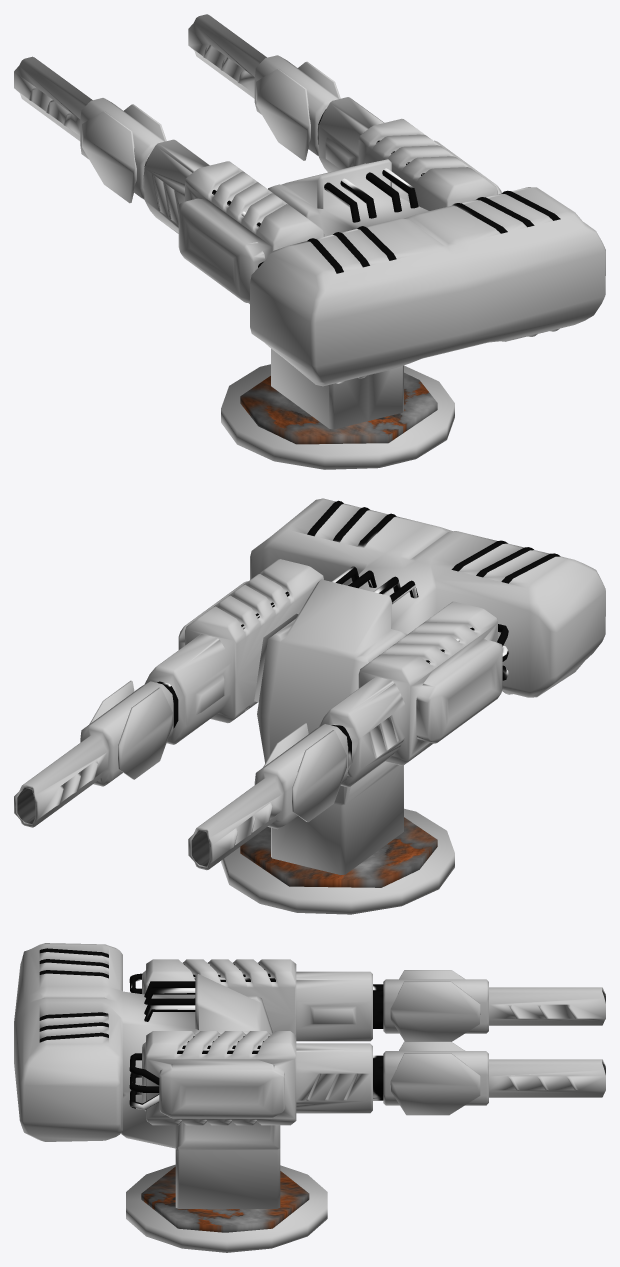
The model's file is torpedo_launcher.fbx.
3 renders of one model, top to bottom at view 1: azimuth 30°, elevation 25°; view 2: azimuth 150°, elevation 25°; view 3: azimuth 270°, elevation 25°, orthographic. The views are drawn at different scales.
Parts seen in each view (by area): view 1: Bships_props_teladi_bigturret_base, Bships_props_teladi_bigturret_weapon, Bships_props_teladi_bigturret_socket; view 2: Bships_props_teladi_bigturret_base, Bships_props_teladi_bigturret_weapon, Bships_props_teladi_bigturret_socket; view 3: Bships_props_teladi_bigturret_weapon, Bships_props_teladi_bigturret_base, Bships_props_teladi_bigturret_socket.
Boxes of the visible parts, box(x1,y1,x2,y2) form: Bships_props_teladi_bigturret_base: box(240, 159, 605, 444); Bships_props_teladi_bigturret_weapon: box(14, 14, 501, 303); Bships_props_teladi_bigturret_socket: box(221, 364, 454, 469); Bships_props_teladi_bigturret_base: box(240, 498, 605, 887); Bships_props_teladi_bigturret_weapon: box(14, 559, 508, 870); Bships_props_teladi_bigturret_socket: box(221, 808, 454, 914); Bships_props_teladi_bigturret_weapon: box(129, 959, 605, 1125); Bships_props_teladi_bigturret_base: box(14, 943, 309, 1232); Bships_props_teladi_bigturret_socket: box(126, 1164, 327, 1252).
Size of the model in its own units: 253 by 208 by 500.
